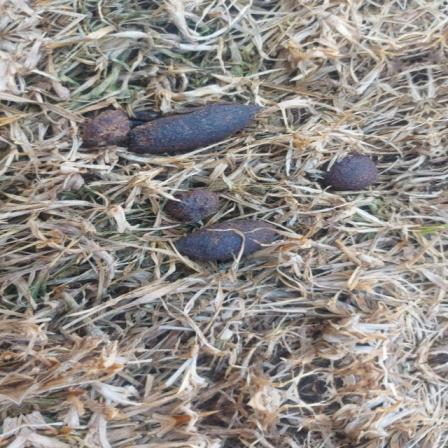dog-poop: (84, 100, 279, 151), (164, 179, 272, 267), (323, 147, 383, 192)
